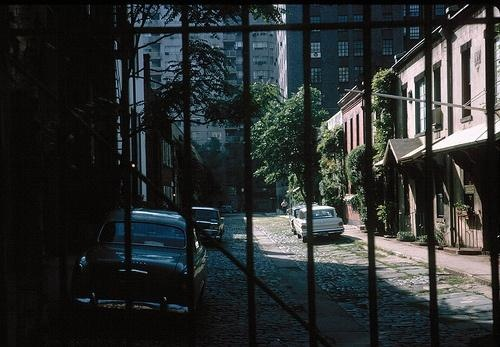car: (72, 208, 209, 319), (295, 204, 351, 245), (192, 206, 226, 245)
